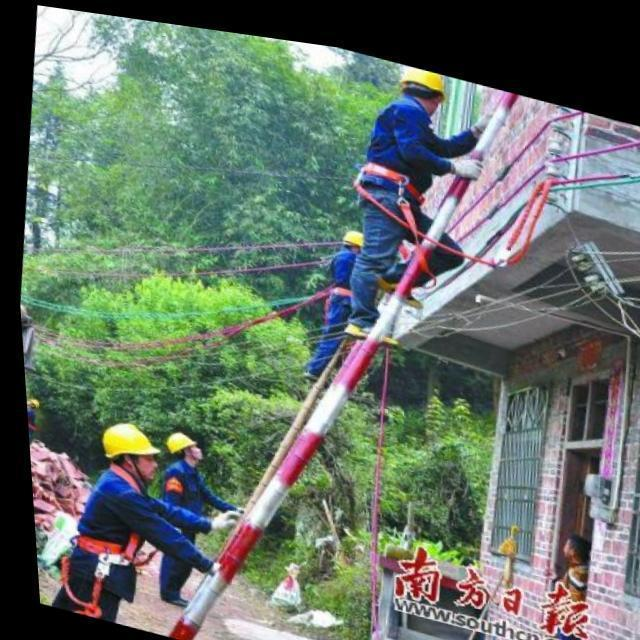Harness: (354, 162, 465, 258)
